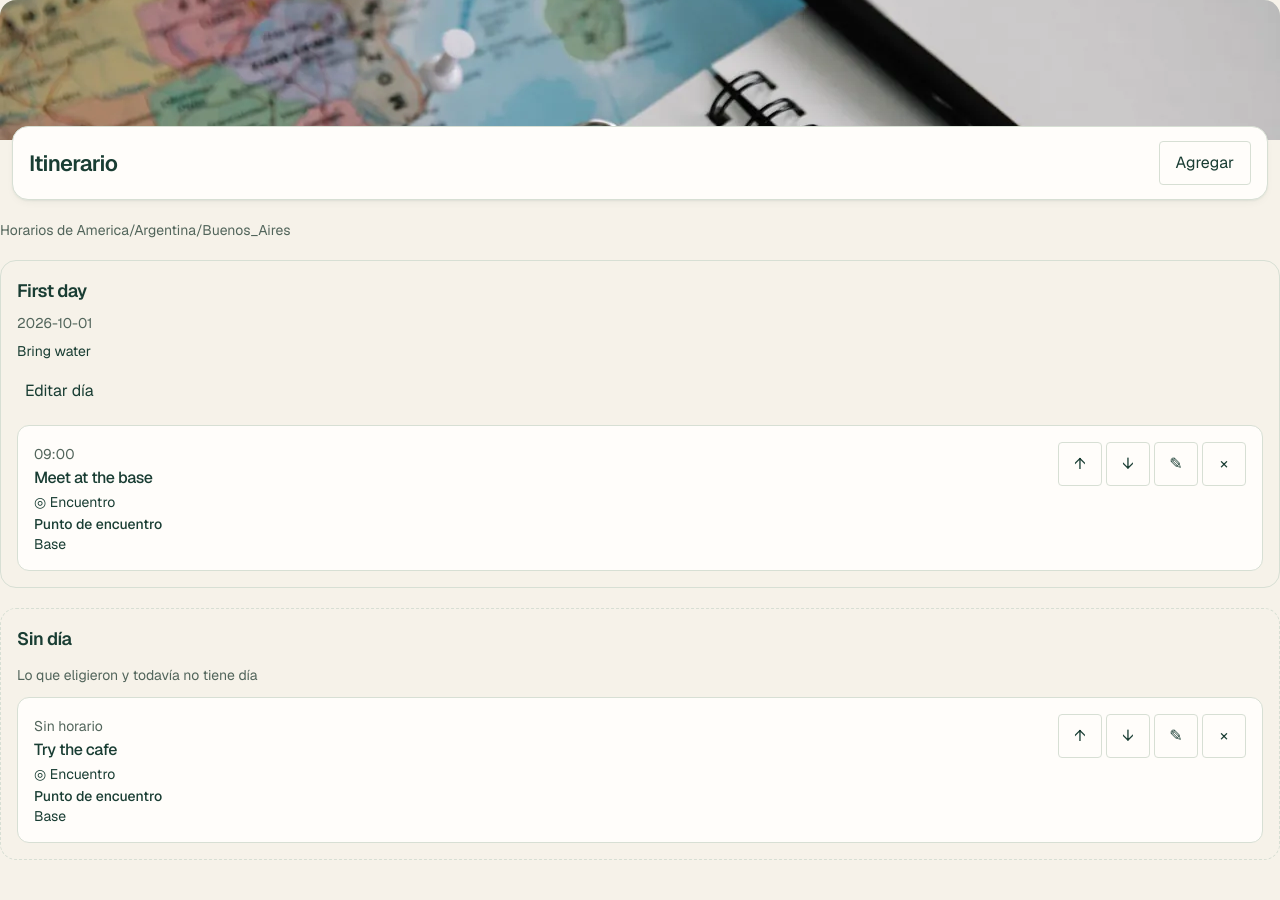
Test: opens the entry editor as an accessible modal sheet
Check: the heading "Try the cafe" is shown, box top-left (34, 739), bottom-right (117, 760)
Click the button "Agregar": (1205,163) top-left (1158, 141), bottom-right (1251, 185)
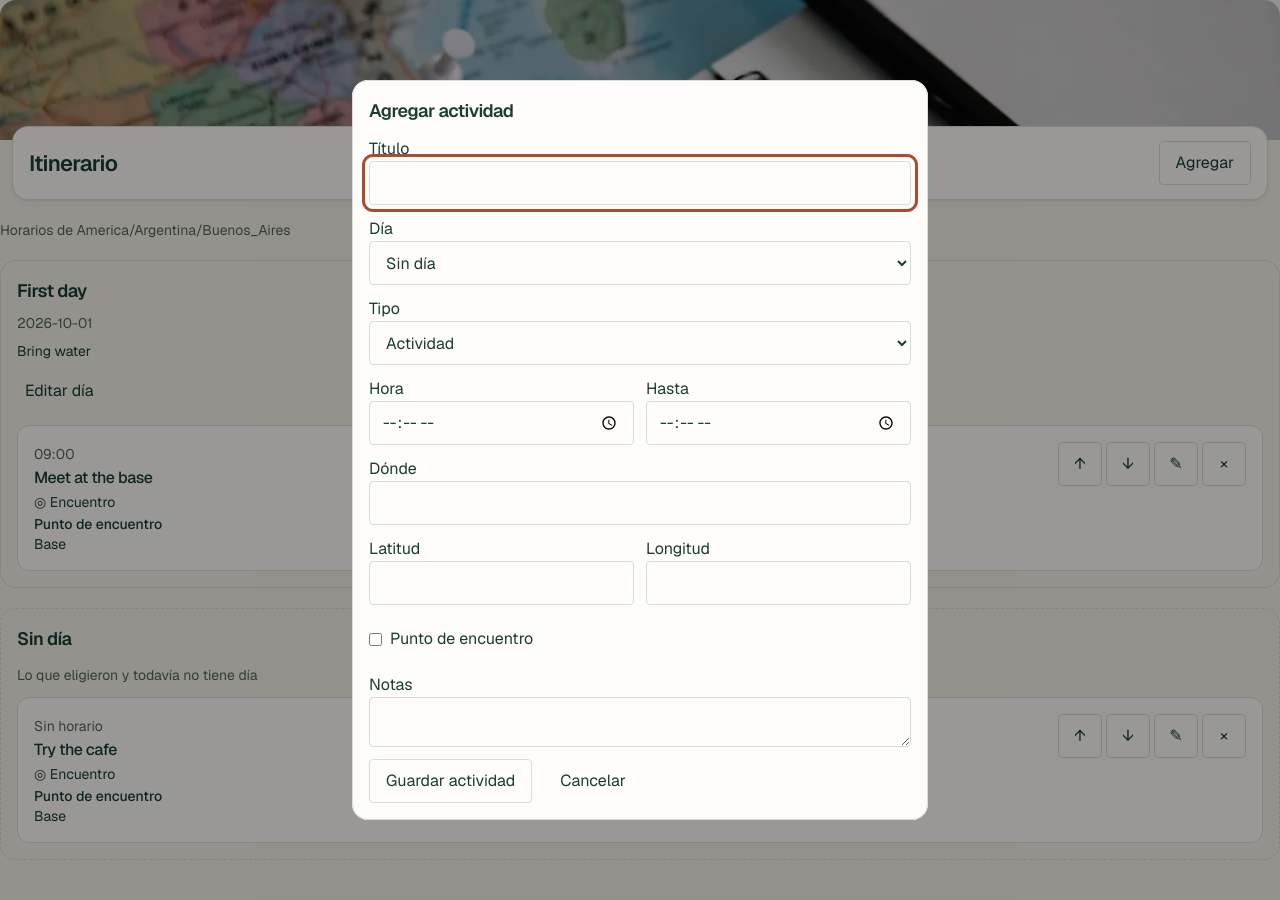
Click the button "Cancelar": (593,781) top-left (544, 759), bottom-right (642, 803)
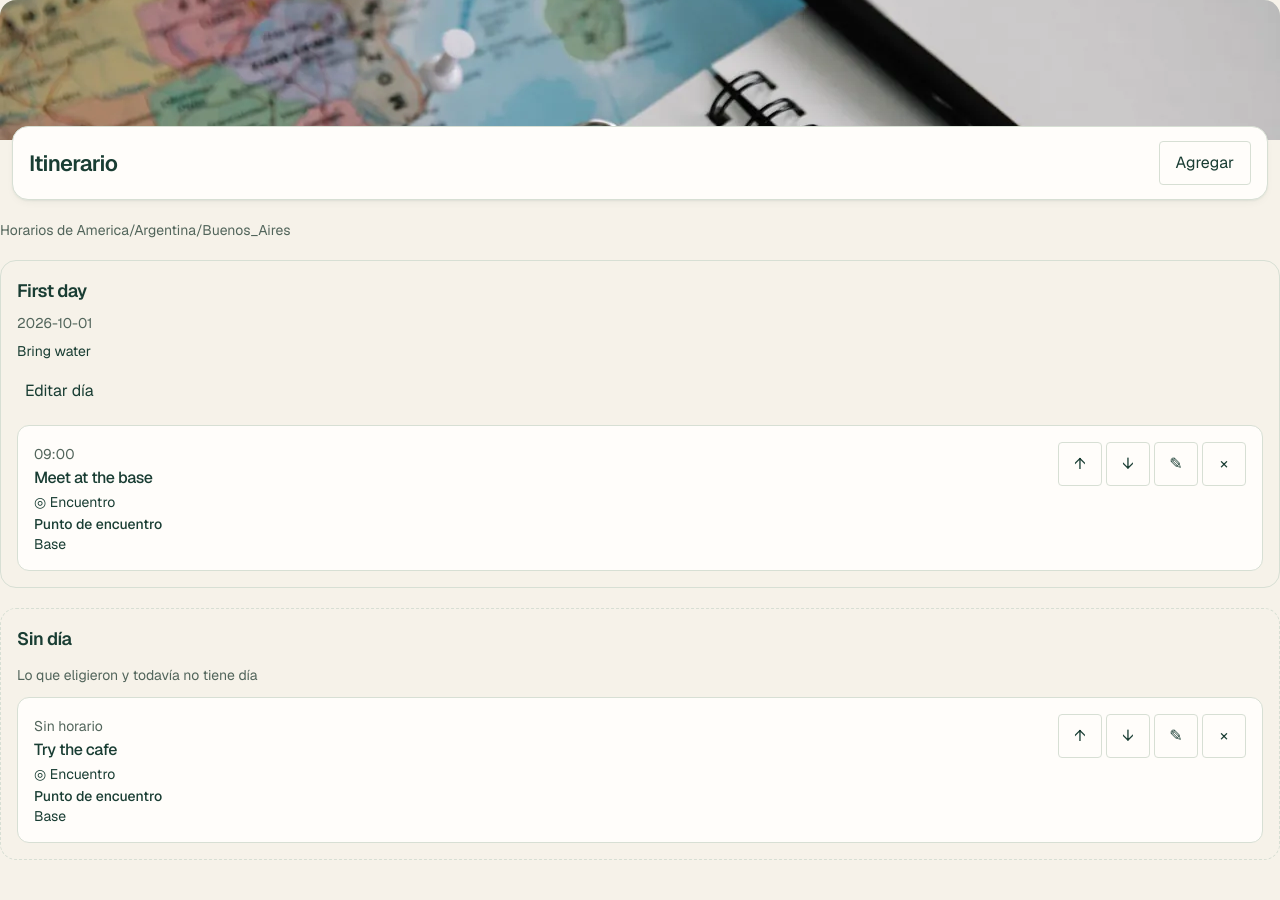
Check: the dialog is gone
